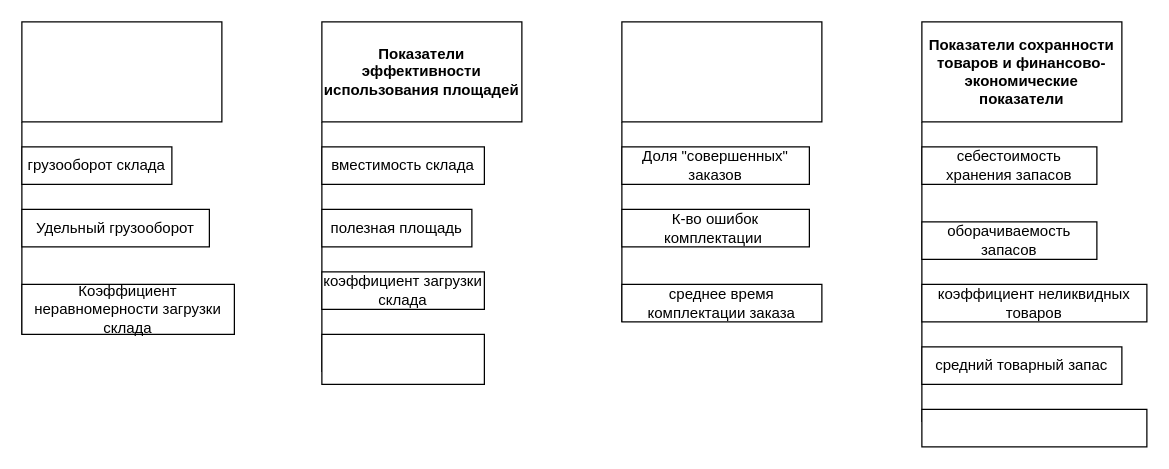
This 1169x469 diagram has some shape labels left out. Each missing label, with the centre of its shape:
"грузонапряженность склада" goes at [402,358].
"Показатели интенсивности" goes at [121,71].
"Показатели качества складского сервиса" goes at [721,71].
"производительность труда работников" goes at [1034,427].
